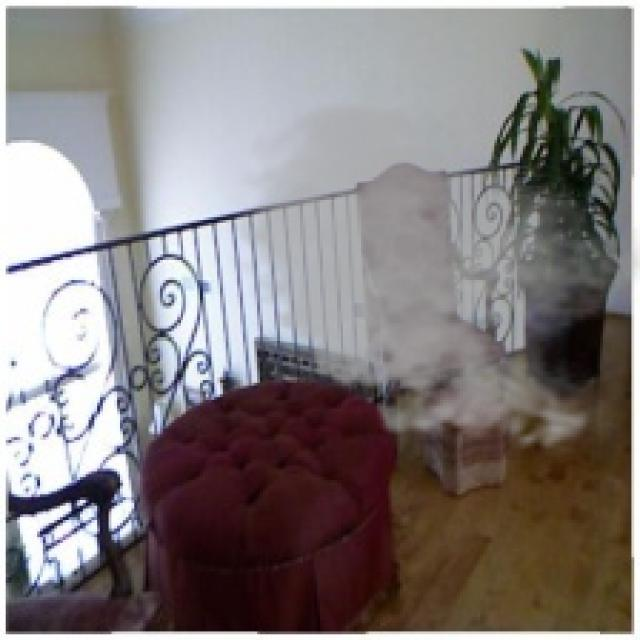smoke: (220, 94, 637, 463)
